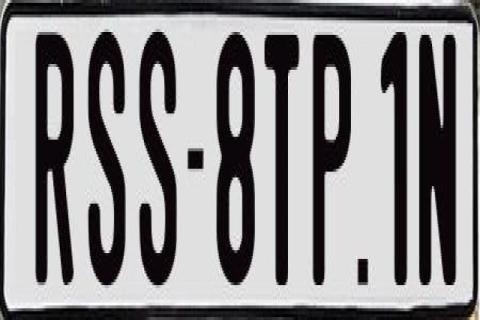0: (216, 26, 255, 291), (378, 23, 409, 276)
N: (417, 29, 460, 282)
P: (312, 35, 356, 291)
R: (33, 23, 75, 280)
S: (139, 27, 180, 297), (88, 23, 131, 280)
T: (264, 29, 304, 279)
